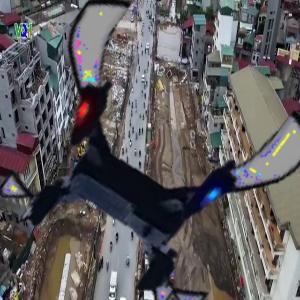drone: (8, 14, 287, 293)
